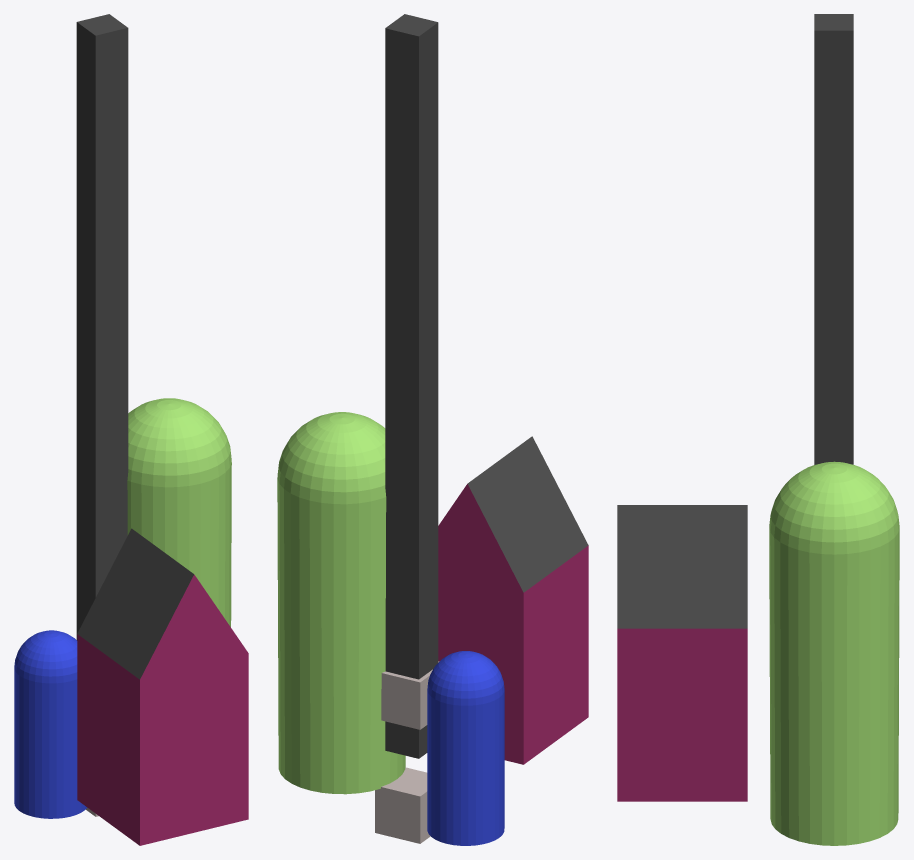
File: capture.gltf
3 views of the same model, side by side, from view 1: azimuth 30°, elevation 25°; view 2: azimuth 150°, elevation 25°; view 3: azimuth 270°, elevation 25° (orthographic). The views are drawn at different scales.
Parts seen in each view (by area): view 1: Plane, Cube, Sphere.002, Sphere.001; view 2: Sphere.002, Cube, Plane, Sphere.001; view 3: Sphere.002, Plane, Cube.
Part boxes in pixels (box(x1,y1,x2,y2)): Plane: box(77, 528, 248, 845); Cube: box(76, 14, 128, 640); Sphere.002: box(127, 398, 231, 626); Sphere.001: box(14, 630, 98, 818); Sphere.002: box(277, 412, 405, 794); Cube: box(385, 14, 438, 758); Plane: box(438, 436, 588, 764); Sphere.001: box(375, 651, 504, 845); Sphere.002: box(769, 461, 899, 845); Plane: box(617, 505, 747, 801); Cube: box(814, 14, 853, 464).
Bounding box in the file's own units: 3.78 × 13.67 × 4.33.
